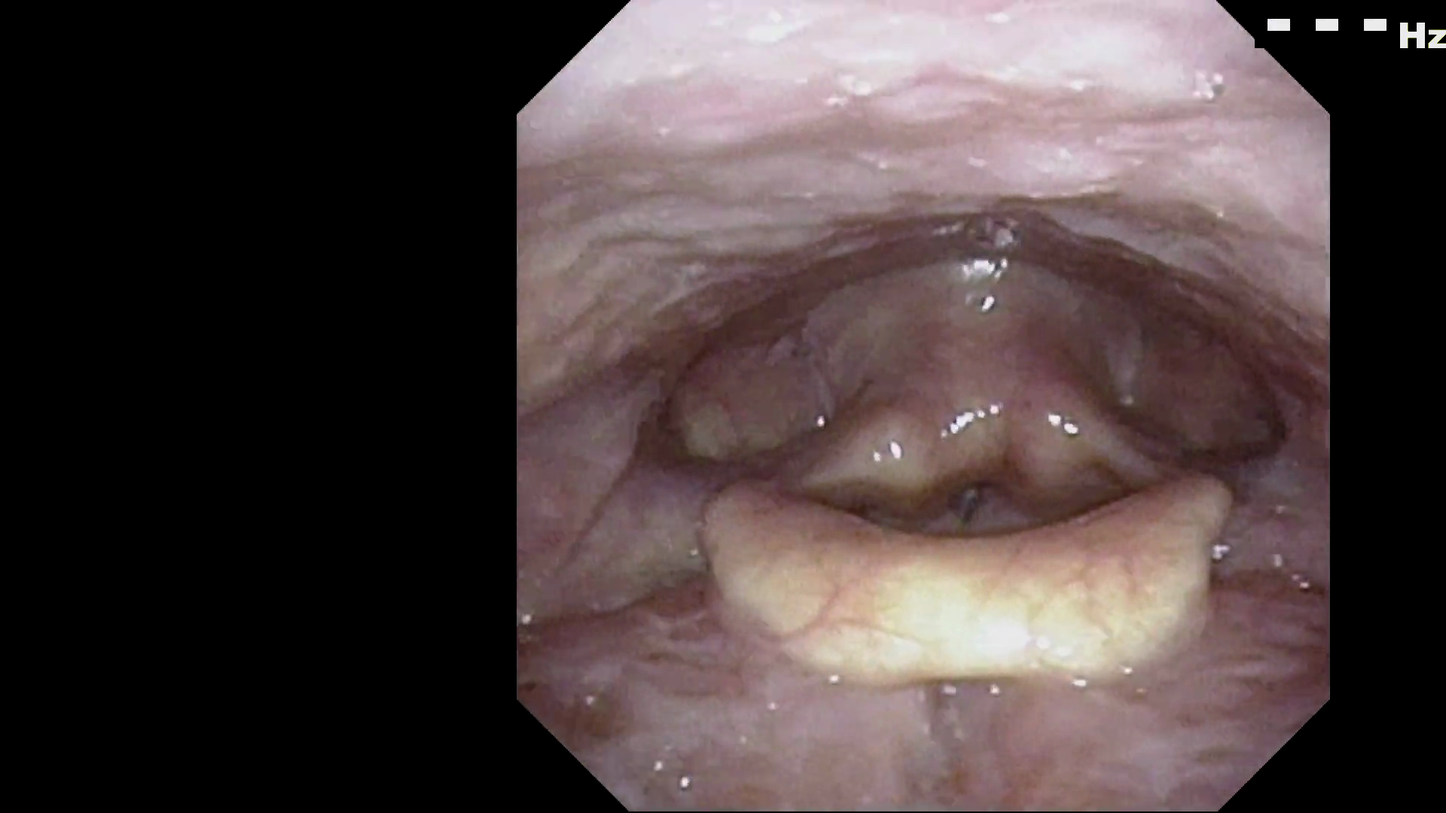epiglottis: (676, 448, 1251, 707)
trachea: (908, 430, 1023, 570)
